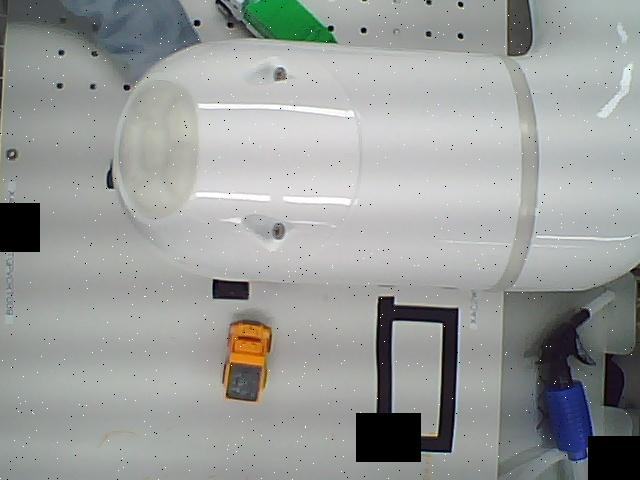Diesel car: (217, 319, 274, 405)
Electric car: (211, 0, 345, 43)
